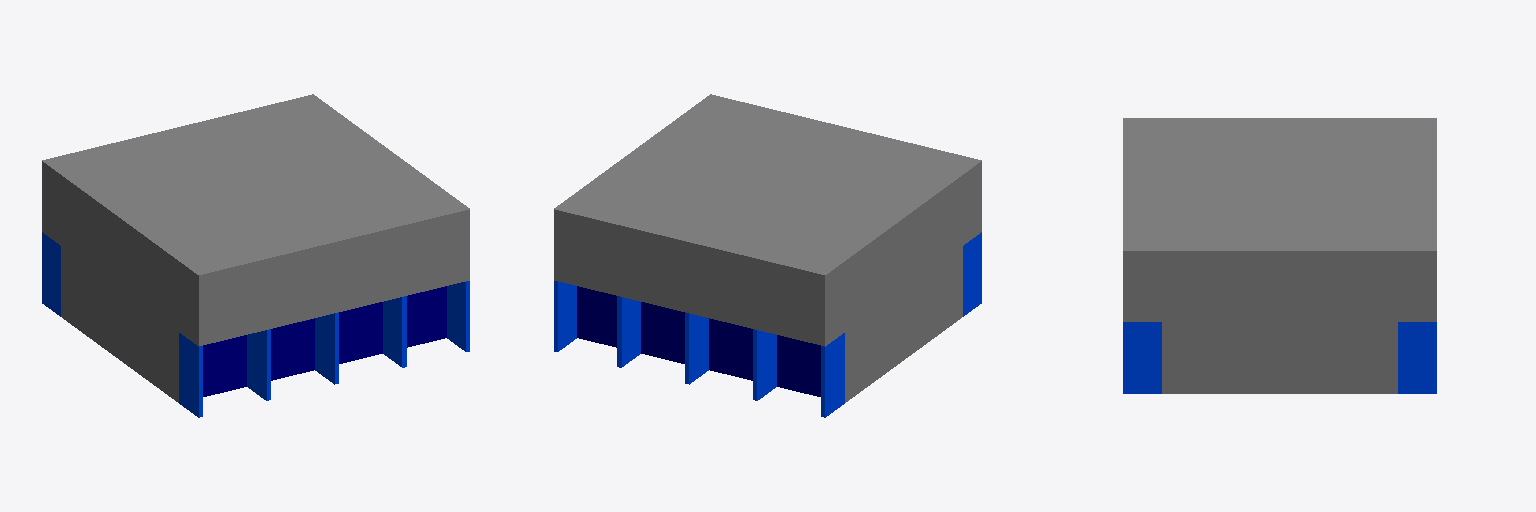
3 views of the same model, side by side, from view 1: azimuth 30°, elevation 25°; view 2: azimuth 150°, elevation 25°; view 3: azimuth 270°, elevation 25° (orthographic).
Size of the model in its own units: 4 by 2 by 4.
Materials: 1 (1 with a texture image).